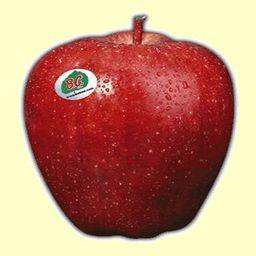apple: (21, 17, 239, 240)
